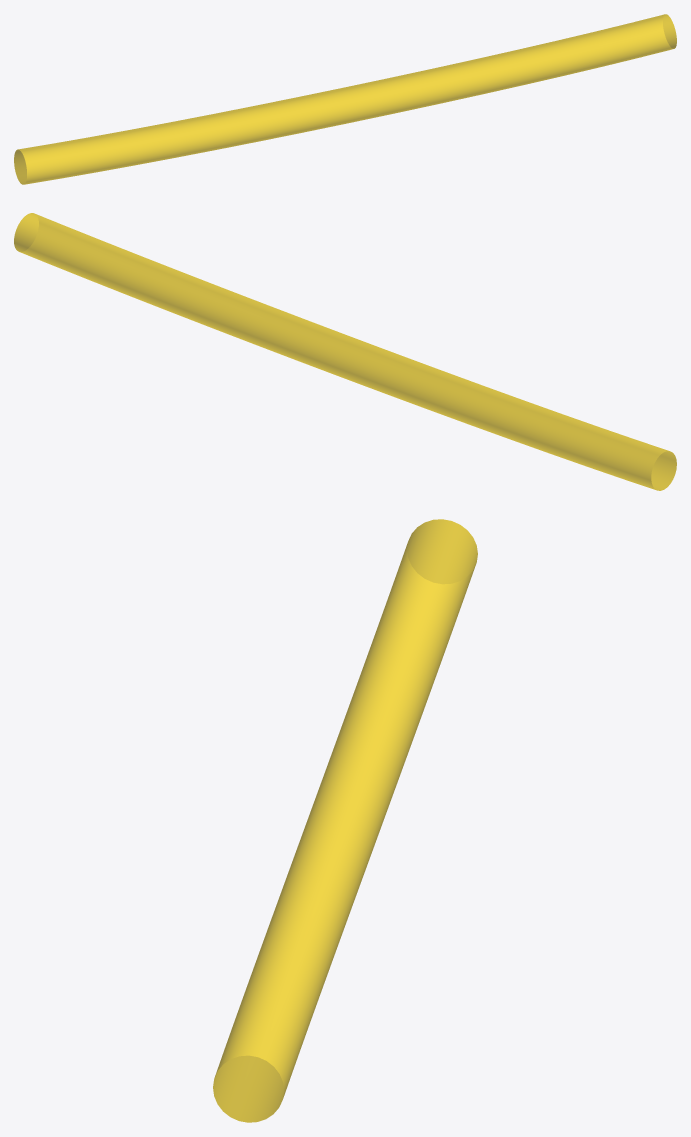
The model's file is Event_31209032_track_35.fbx.
The picture shows the model from 3 angles, top to bottom: view 1: azimuth 30°, elevation 25°; view 2: azimuth 150°, elevation 25°; view 3: azimuth 270°, elevation 25°; orthographic projection. The views are drawn at different scales.
Visible parts, largest first — view 1: Model; view 2: Model; view 3: Model.
Part boxes in pixels (x1,y1,x2,y2): Model: [14, 14, 676, 184]; Model: [14, 213, 676, 490]; Model: [213, 519, 477, 1122].
Size of the model in its own units: 0.7786 by 0.0701 by 0.1476.
